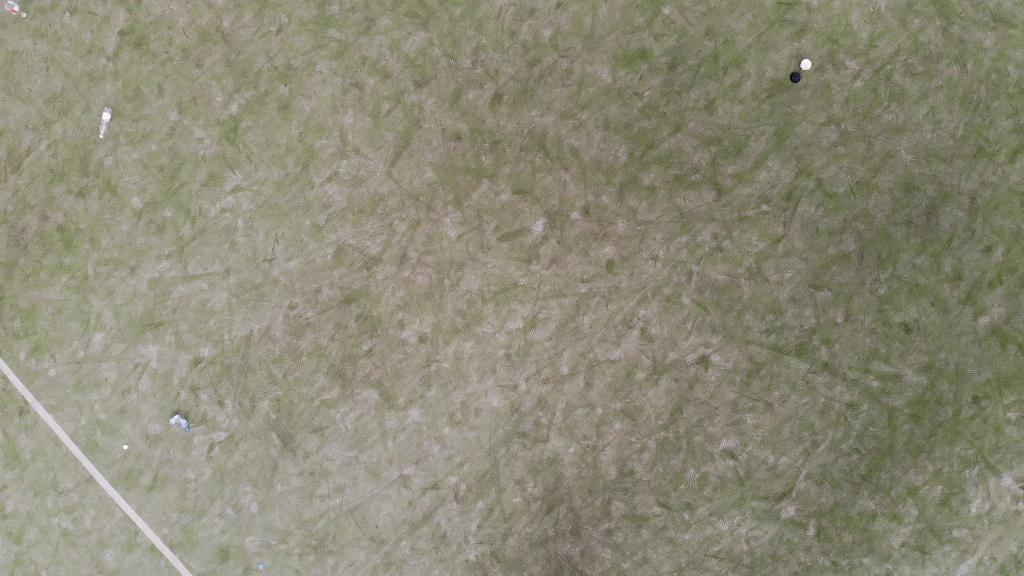garbage: (168, 413, 191, 435), (98, 105, 111, 139)
